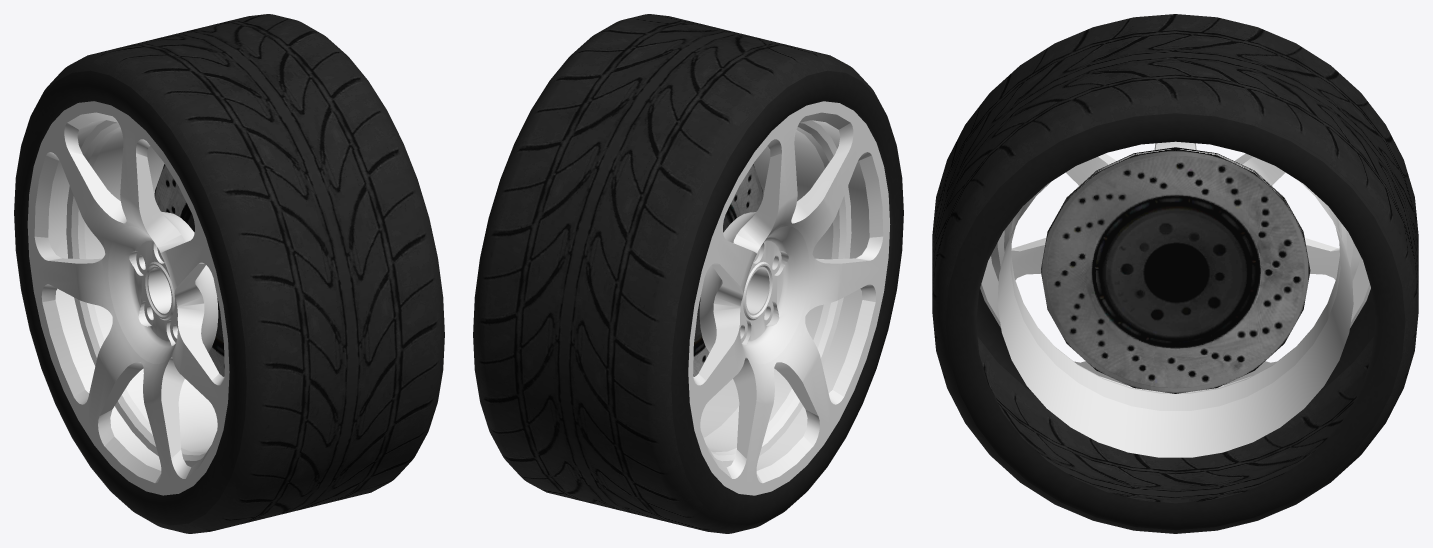
File: 16_Rota_SDR.fbx
The picture shows the model from 3 angles, left to right: view 1: azimuth 30°, elevation 25°; view 2: azimuth 150°, elevation 25°; view 3: azimuth 270°, elevation 25°; orthographic projection.
Visible parts, largest first — view 1: Combined No Name Object 0, Rota_SDR, Combined co_contisportcontact_2_vmax_wall Object 0, Rotor; view 2: Combined No Name Object 0, Rota_SDR, Combined co_contisportcontact_2_vmax_wall Object 0, Rotor; view 3: Combined No Name Object 0, Rotor, Combined co_contisportcontact_2_vmax_wall Object 0, Rota_SDR.
Part boxes in pixels (left/top/right/bottom): Combined No Name Object 0: left=14, top=14, right=444, bottom=533; Rota_SDR: left=27, top=101, right=229, bottom=495; Combined co_contisportcontact_2_vmax_wall Object 0: left=14, top=70, right=246, bottom=525; Rotor: left=154, top=164, right=224, bottom=376; Combined No Name Object 0: left=473, top=14, right=903, bottom=533; Rota_SDR: left=688, top=101, right=890, bottom=495; Combined co_contisportcontact_2_vmax_wall Object 0: left=671, top=70, right=903, bottom=525; Rotor: left=693, top=164, right=763, bottom=376; Combined No Name Object 0: left=932, top=14, right=1418, bottom=533; Rotor: left=1041, top=147, right=1310, bottom=393; Combined co_contisportcontact_2_vmax_wall Object 0: left=945, top=113, right=1405, bottom=530; Rota_SDR: left=980, top=141, right=1370, bottom=457.
Bounding box in the file's own units: 0.3334 × 0.688 × 0.688.
